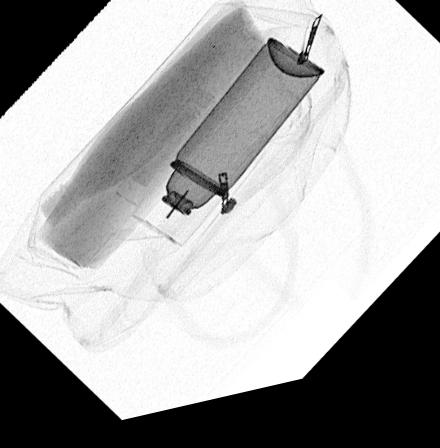Sprayer: (127, 47, 326, 258)
